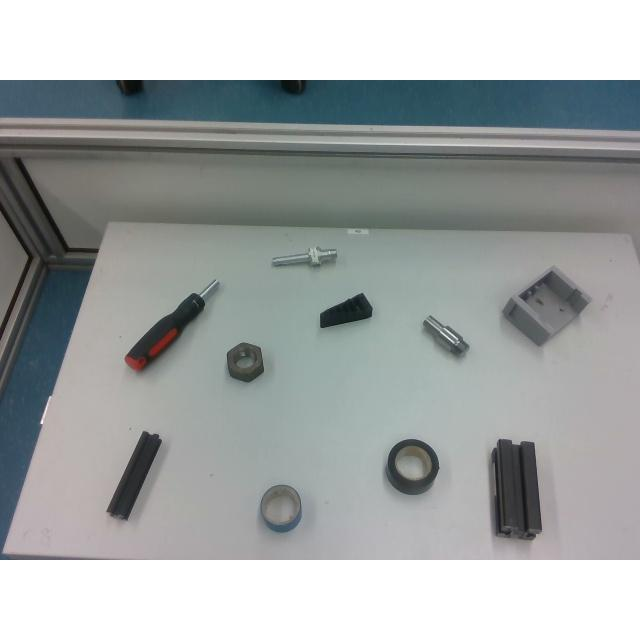Axis2: (423, 314, 469, 354)
F20_20_B: (106, 430, 162, 520)
M30: (228, 342, 264, 380)
S40_40_B: (492, 438, 544, 542)
